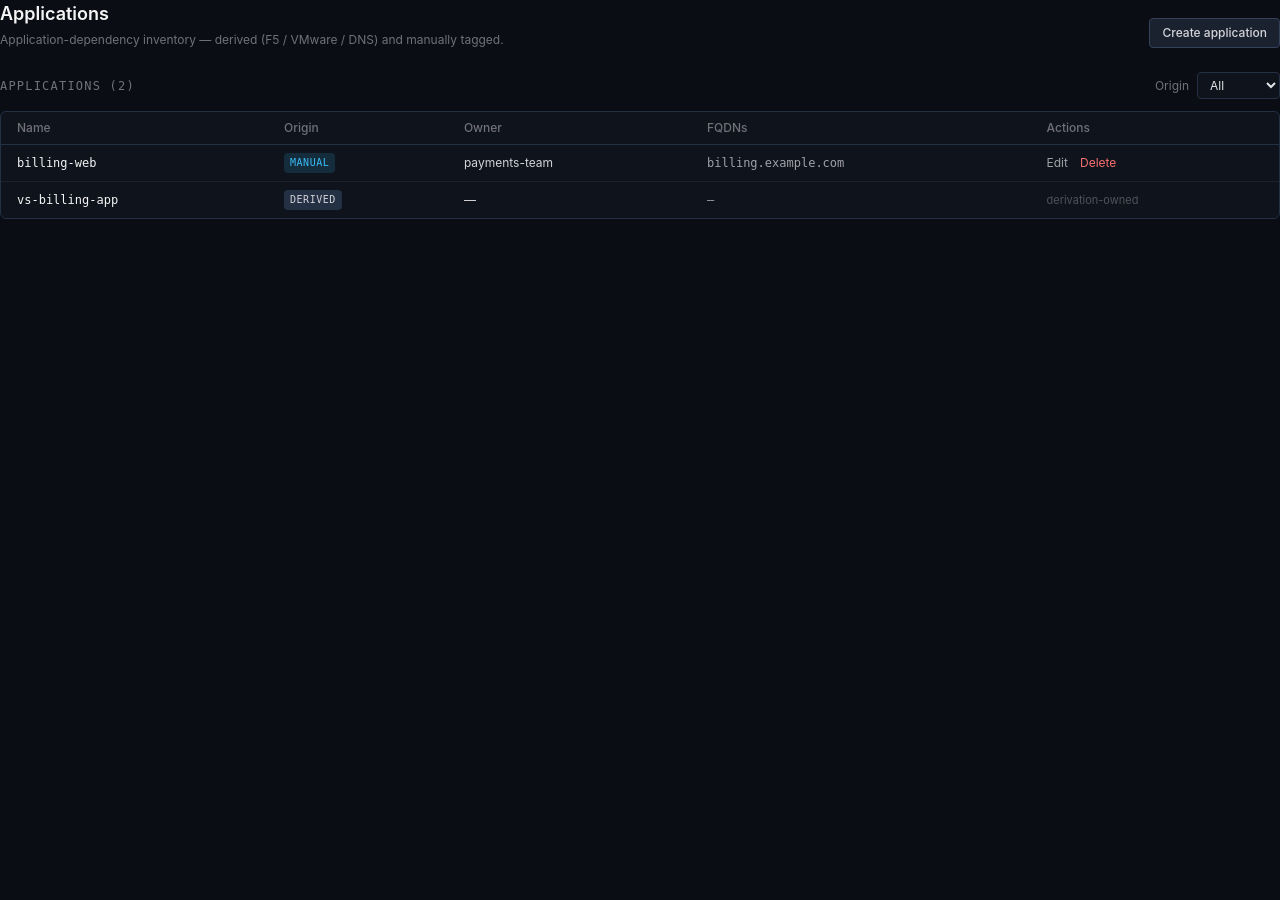
application_edit_uses_optimistic_concurrency_if_match › (b) a stale-precondition 409 shows the reload message and does not close the modal
Click the button "Edit": [1057, 163] box 1047,155 -> 1068,171
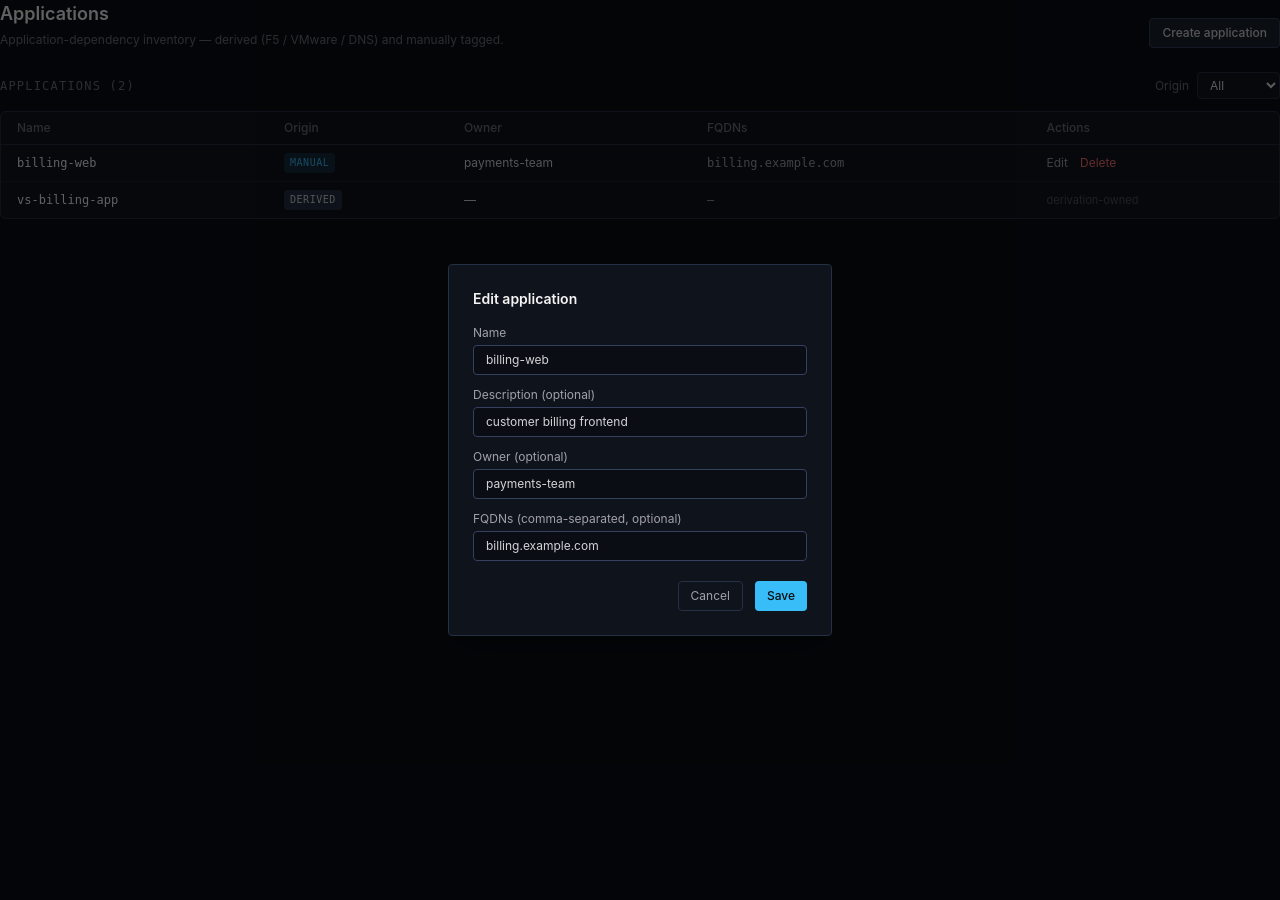
Replace the text in the field with test id "application-form-owner" with "new-owner": [640, 484] box 473,469 -> 807,499
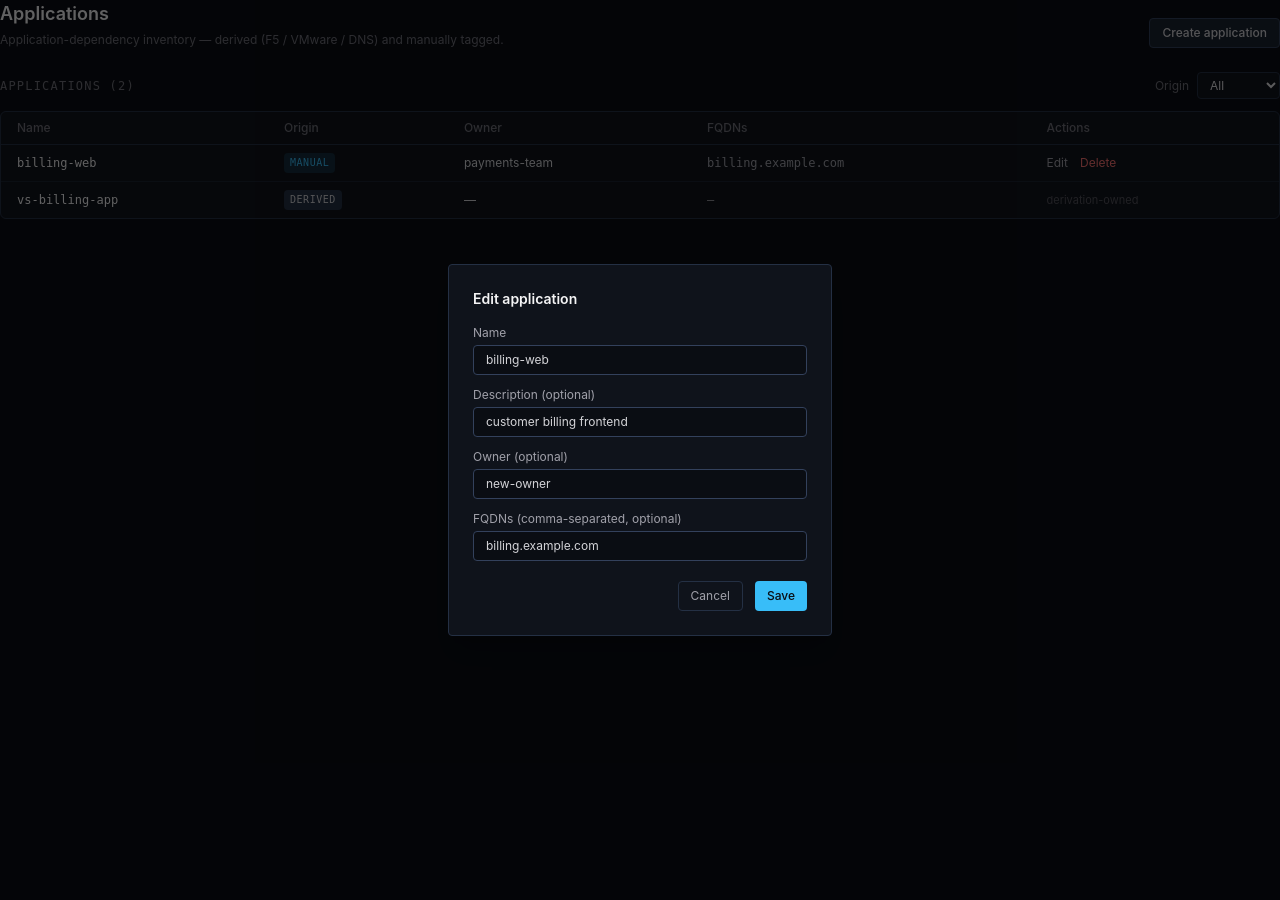
Click the button with test id "application-form-submit": [781, 596] box 755,581 -> 807,611
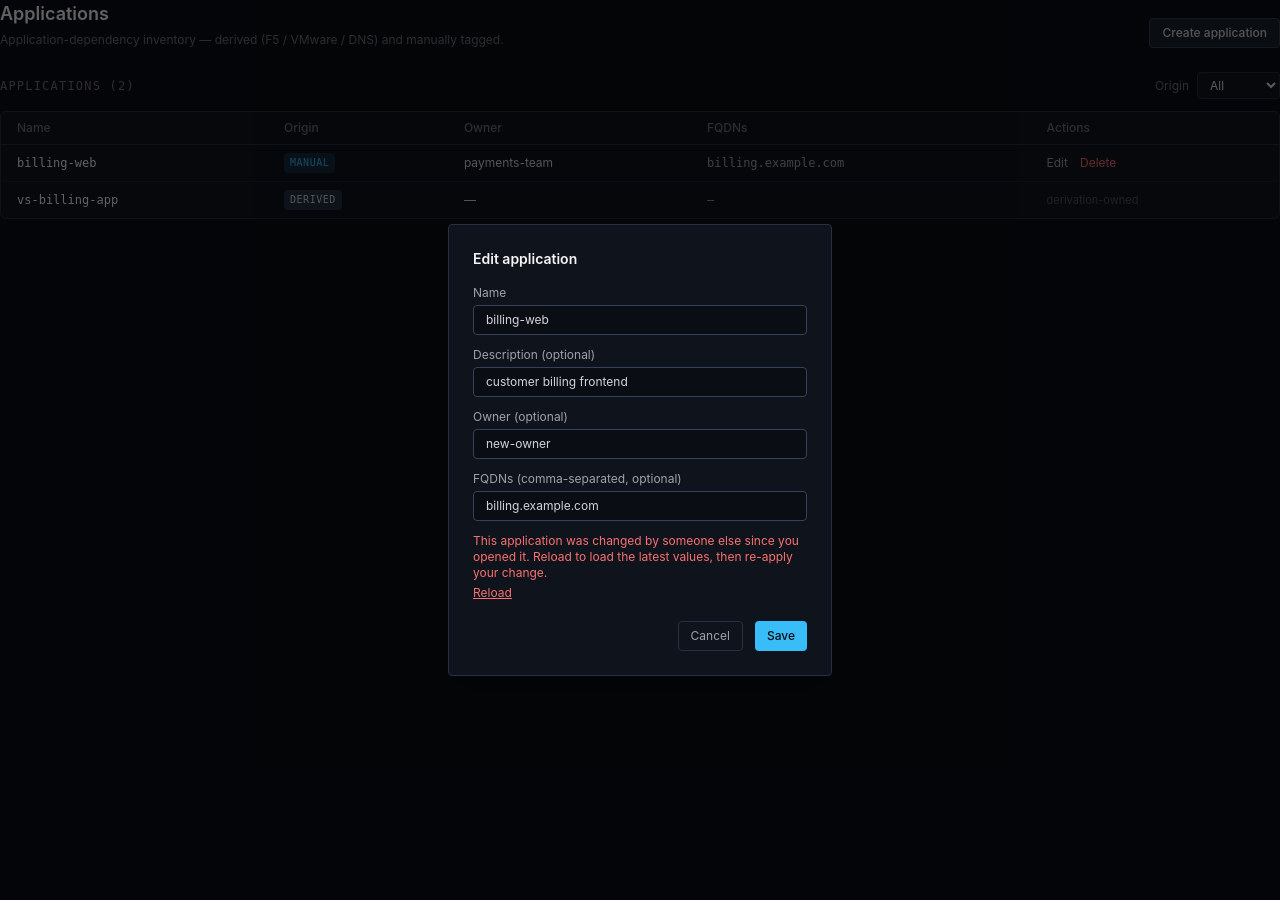
Expected: the dialog labelled "Edit application" is shown
Expected: the text "changed by someone else" is shown, 473,533 -> 799,580
Expected: the button with test id "application-reload-button" is shown, 473,585 -> 512,601
